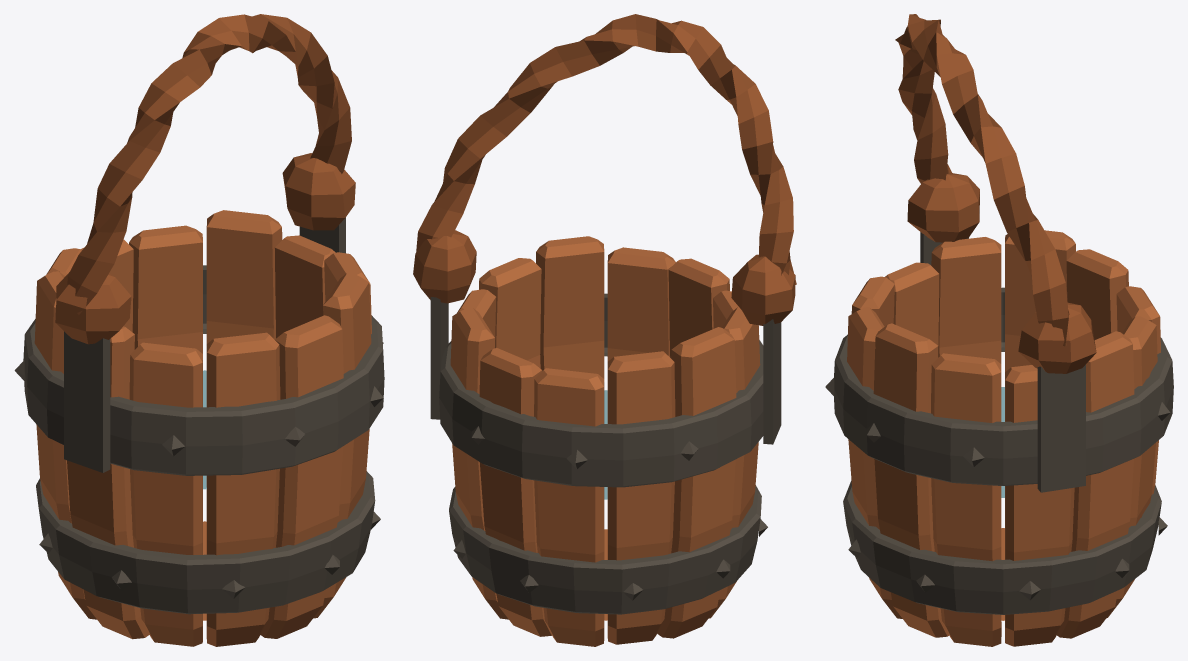
Rendered from water-bucket-partial.glb.
The picture shows the model from 3 angles, left to right: view 1: azimuth 30°, elevation 25°; view 2: azimuth 150°, elevation 25°; view 3: azimuth 270°, elevation 25°; orthographic projection. The views are drawn at different scales.
Parts seen in each view (by area): view 1: staves, hoops, rope_handle, rope_knots, ears, rivets; view 2: staves, hoops, rope_handle, rope_knots, ears, rivets; view 3: staves, hoops, rope_handle, rope_knots, ears, rivets.
Boxes of the visible parts, x1,y1,x2,y2 form: staves: (34,210,371,646); hoops: (23,265,384,614); rope_handle: (67,14,351,315); rope_knots: (55,153,355,344); ears: (64,217,345,472); rivets: (14,342,383,598); staves: (450,236,760,646); hoops: (439,293,763,614); rope_handle: (416,14,796,284); rope_knots: (413,230,795,325); ears: (430,297,781,444); rivets: (453,426,767,600); staves: (847,230,1160,646); hoops: (834,287,1173,614); rope_handle: (895,14,1069,346); rope_knots: (907,172,1096,373); ears: (920,232,1085,492); rivets: (825,378,1170,600).
Bounding box in the file's own units: 0.4405 × 0.7328 × 0.4073.
